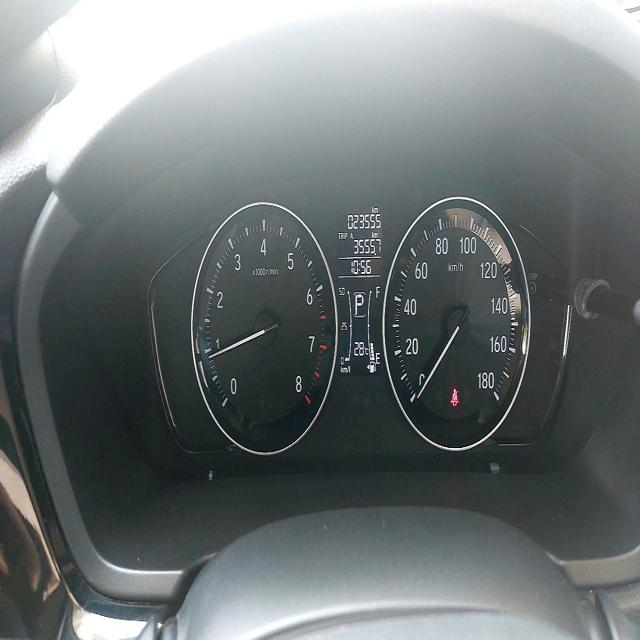odometer: (345, 211, 382, 231)
